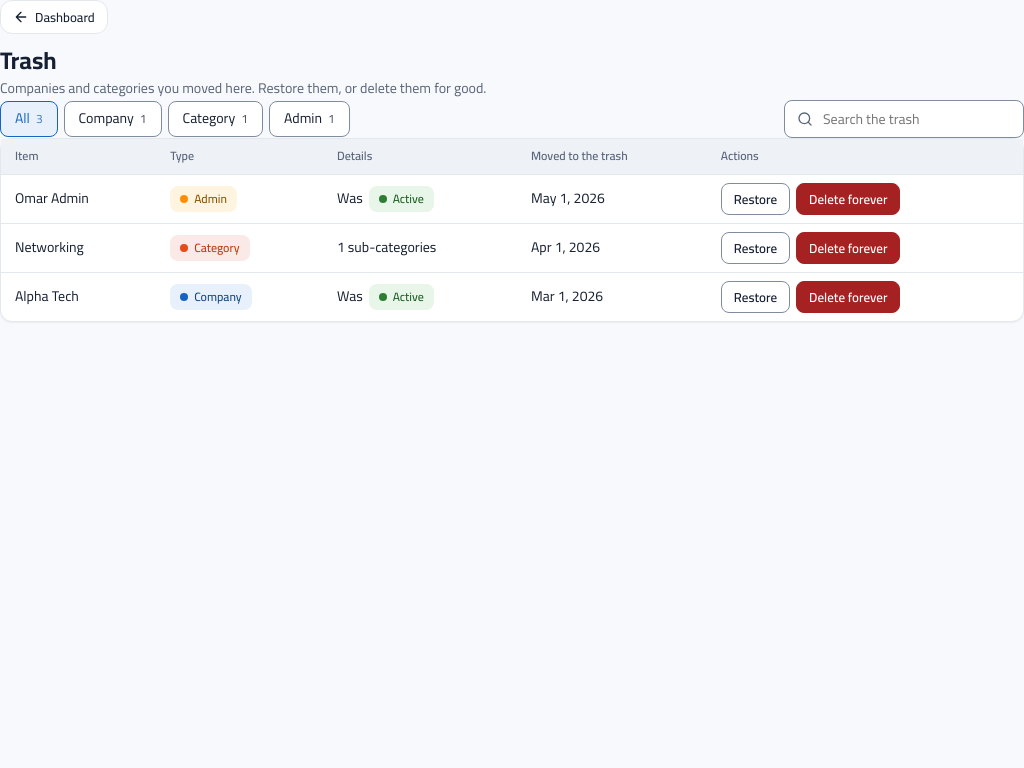
Test: admins in the trash › are deleted for good only after being asked, naming who and that the login stays
Click the button "Delete forever" in the row of "Omar Admin" at (848, 199), box [796,183,900,215]
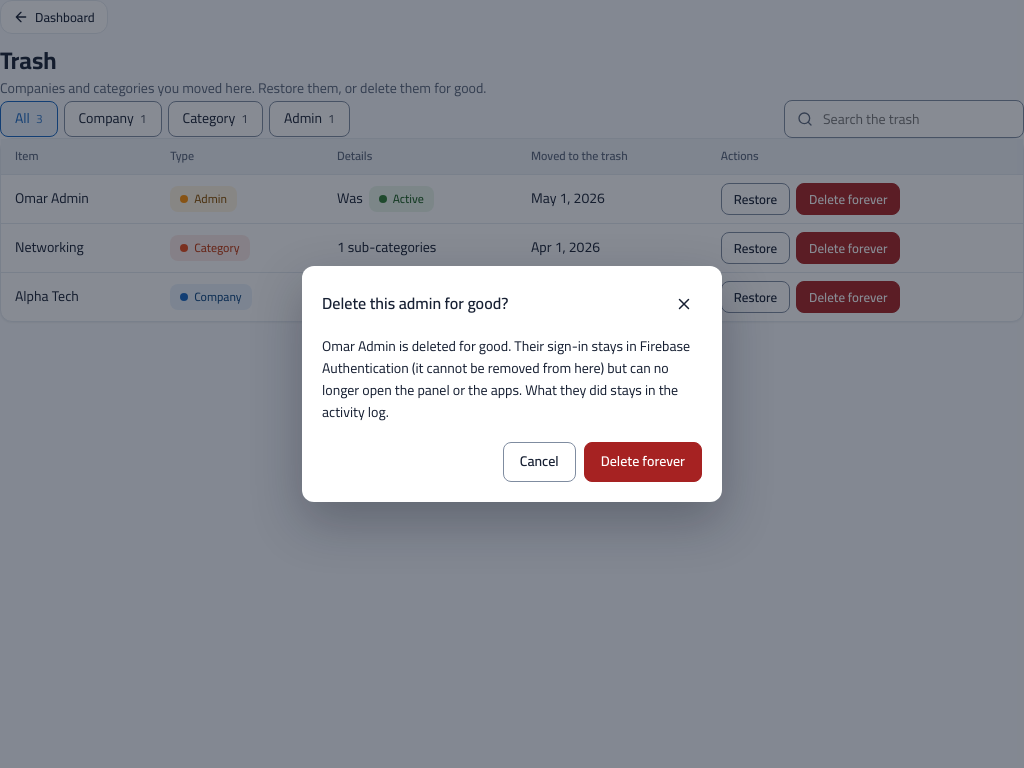
Result: the dialog "Delete this admin for good?" shows "Omar Admin" at [322,333,690,425]
Click the button "Delete forever" at (643, 462), box [584,442,702,482]
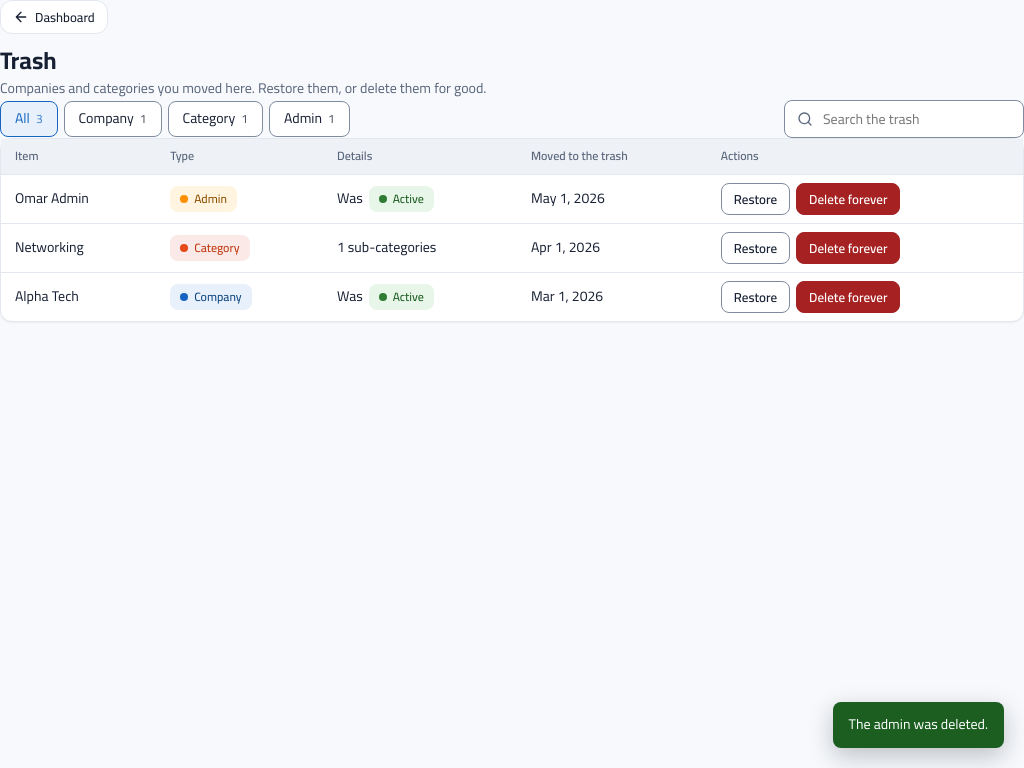
Result: the text "The admin was deleted." is shown at [833,702,1004,748]
